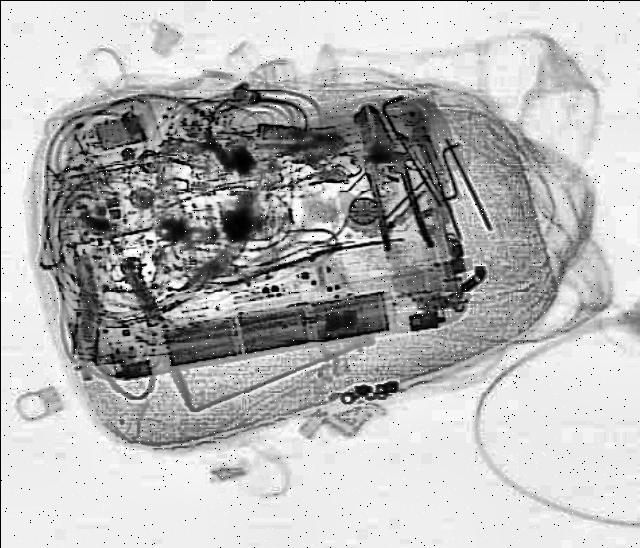Pliers: (337, 98, 433, 253)
